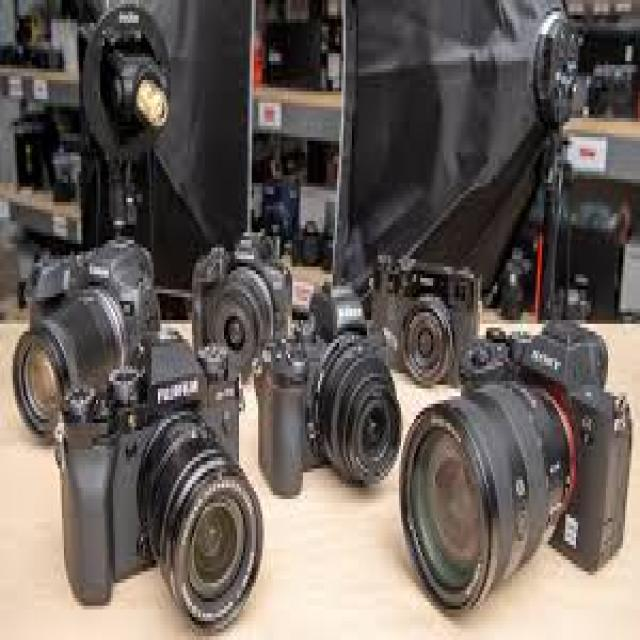camera: (401, 322, 634, 618), (66, 343, 261, 627), (259, 290, 402, 498), (13, 240, 159, 422), (194, 243, 292, 375), (392, 270, 479, 392)
